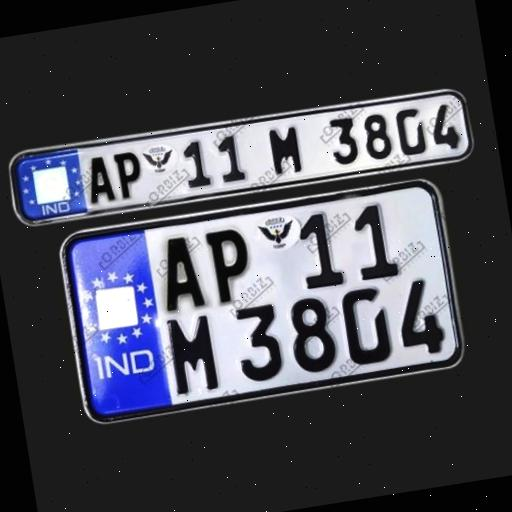number plate: (50, 172, 478, 431), (0, 76, 479, 234)
